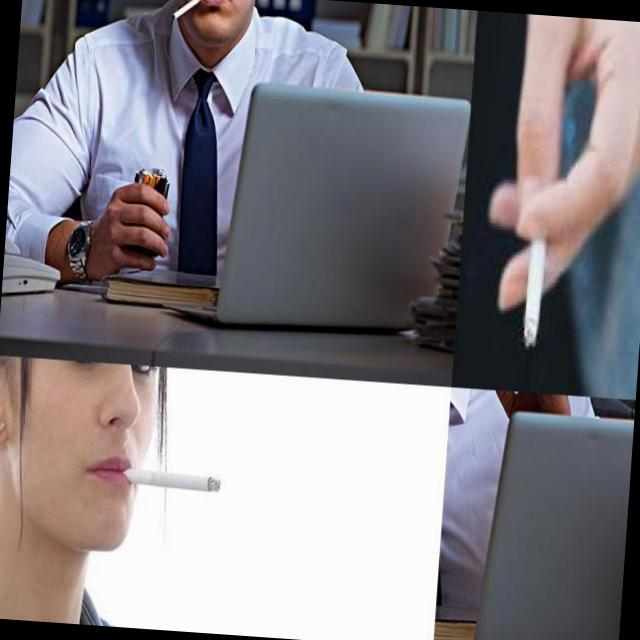cigarette: (520, 203, 549, 348), (118, 466, 220, 494), (169, 0, 204, 25)
